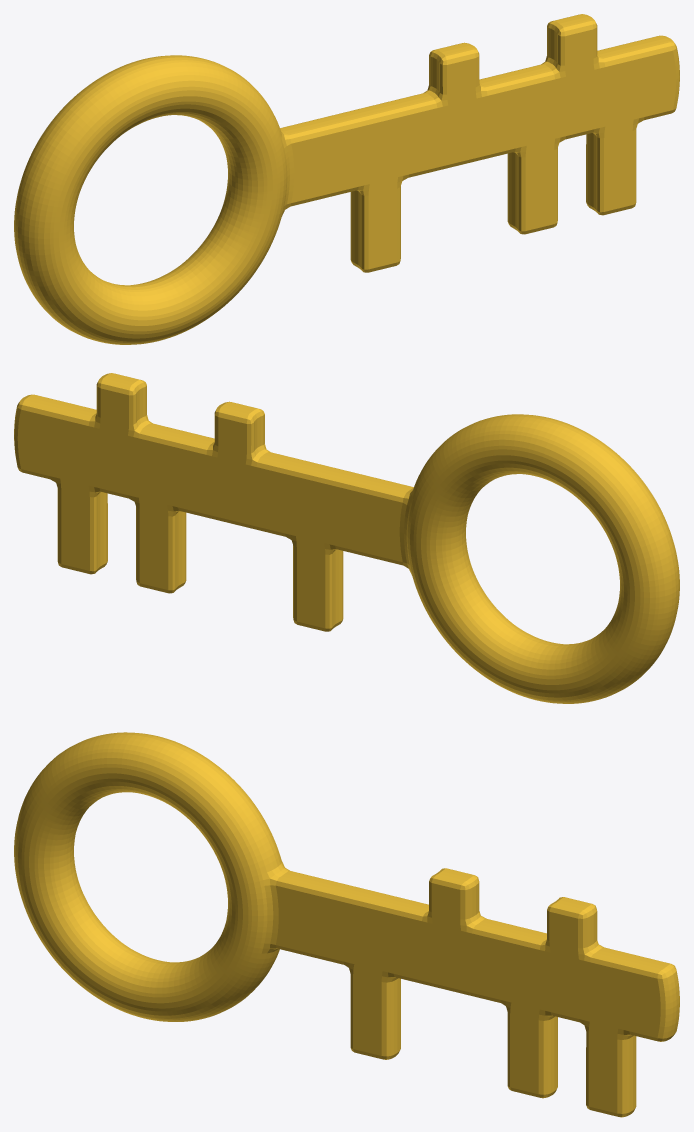
The model's file is SM_Key.fbx.
3 views of the same model, one above another, from view 1: azimuth 30°, elevation 25°; view 2: azimuth 150°, elevation 25°; view 3: azimuth 330°, elevation 25° (orthographic).
Parts seen in each view (by area): view 1: Gold Key; view 2: Gold Key; view 3: Gold Key.
Boxes of the visible parts, bbox=[...] form: Gold Key: bbox=[14, 14, 679, 344]; Gold Key: bbox=[14, 373, 679, 703]; Gold Key: bbox=[14, 732, 679, 1117].
Bounding box in the file's own units: 414 × 167 × 32.7.
